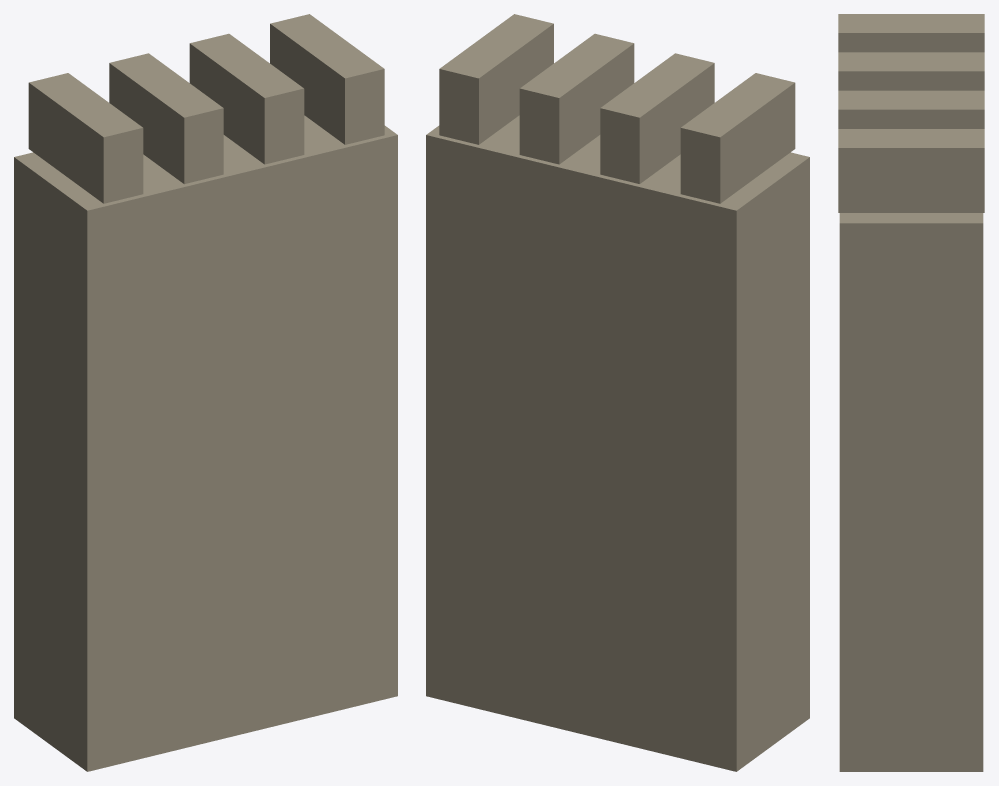
Rendered from b-wall-english.glb.
The picture shows the model from 3 angles, left to right: view 1: azimuth 30°, elevation 25°; view 2: azimuth 150°, elevation 25°; view 3: azimuth 270°, elevation 25°; orthographic projection. The views are drawn at different scales.
Visible parts, largest first — view 1: Structure; view 2: Structure; view 3: Structure.
Boxes of the visible parts, x1,y1,x2,y2 form: Structure: [14, 14, 397, 771]; Structure: [426, 14, 809, 771]; Structure: [838, 14, 984, 771].
Size of the model in its own units: 2.2 by 4.28 by 0.92.
